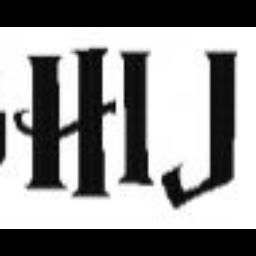h: (18, 46, 116, 202)
i: (116, 50, 160, 190)
j: (158, 36, 256, 214)
